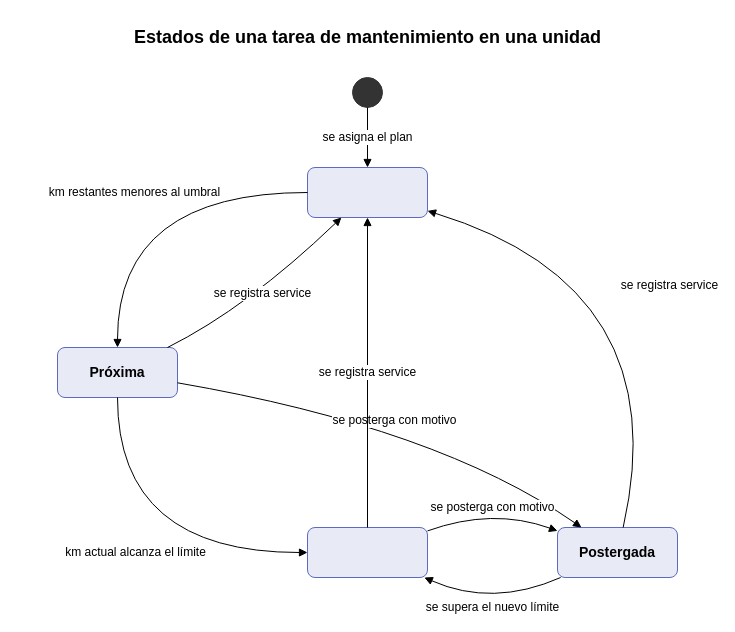
Image size: 735x632. Some labels were removed from this diagram. Here are the shapes that lost their labels. From the top down, the centre of each, then its label:
the point at 367,192: Al día
the point at 367,552: Vencida
